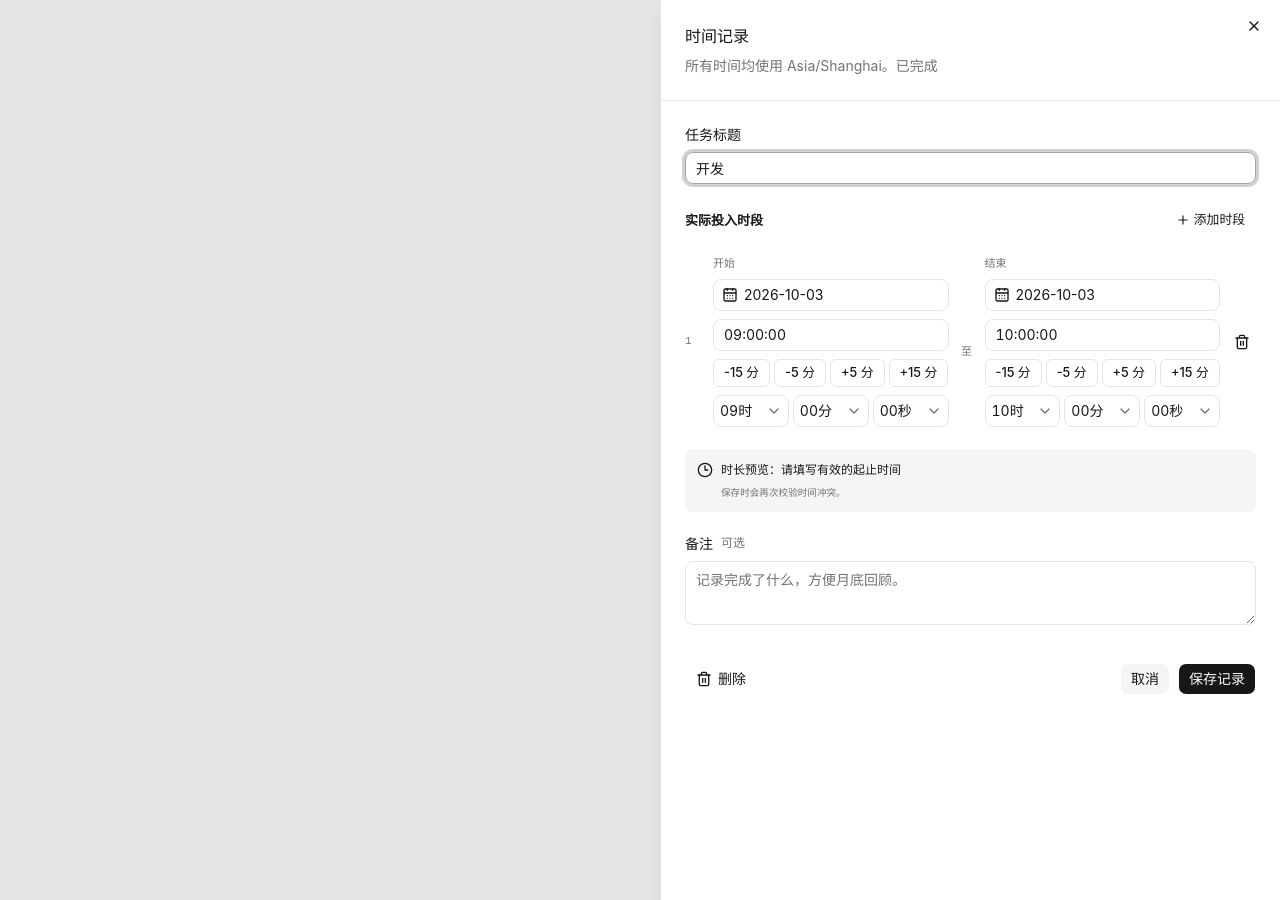
it: retains a failed save and prevents closing while a retry is pending
Replace the text in the field labelled "任务标题" with "重试草稿" at (970, 168), box [685, 152, 1256, 184]
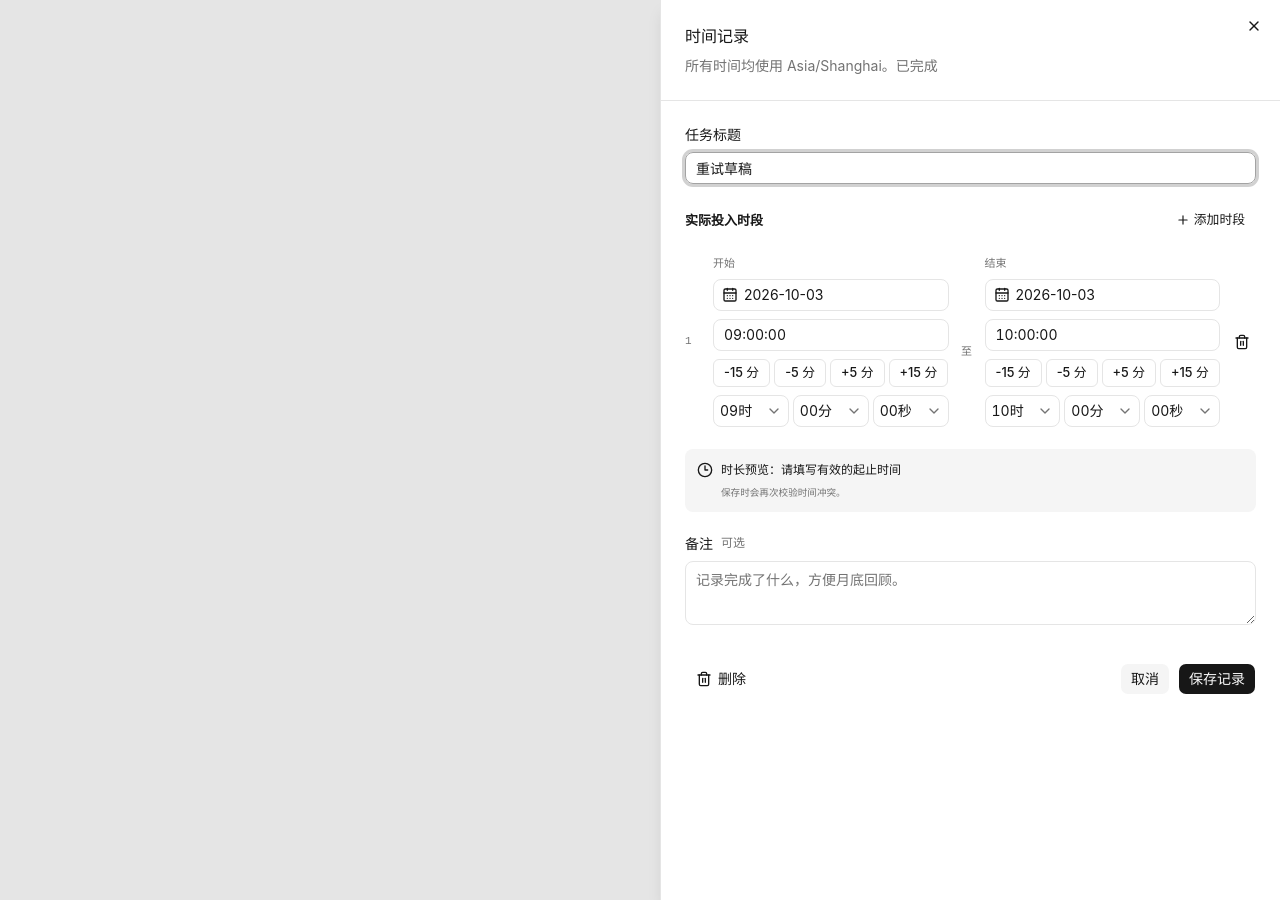
Click the button "保存记录".
click(1217, 679)  # box [1178, 663, 1256, 695]
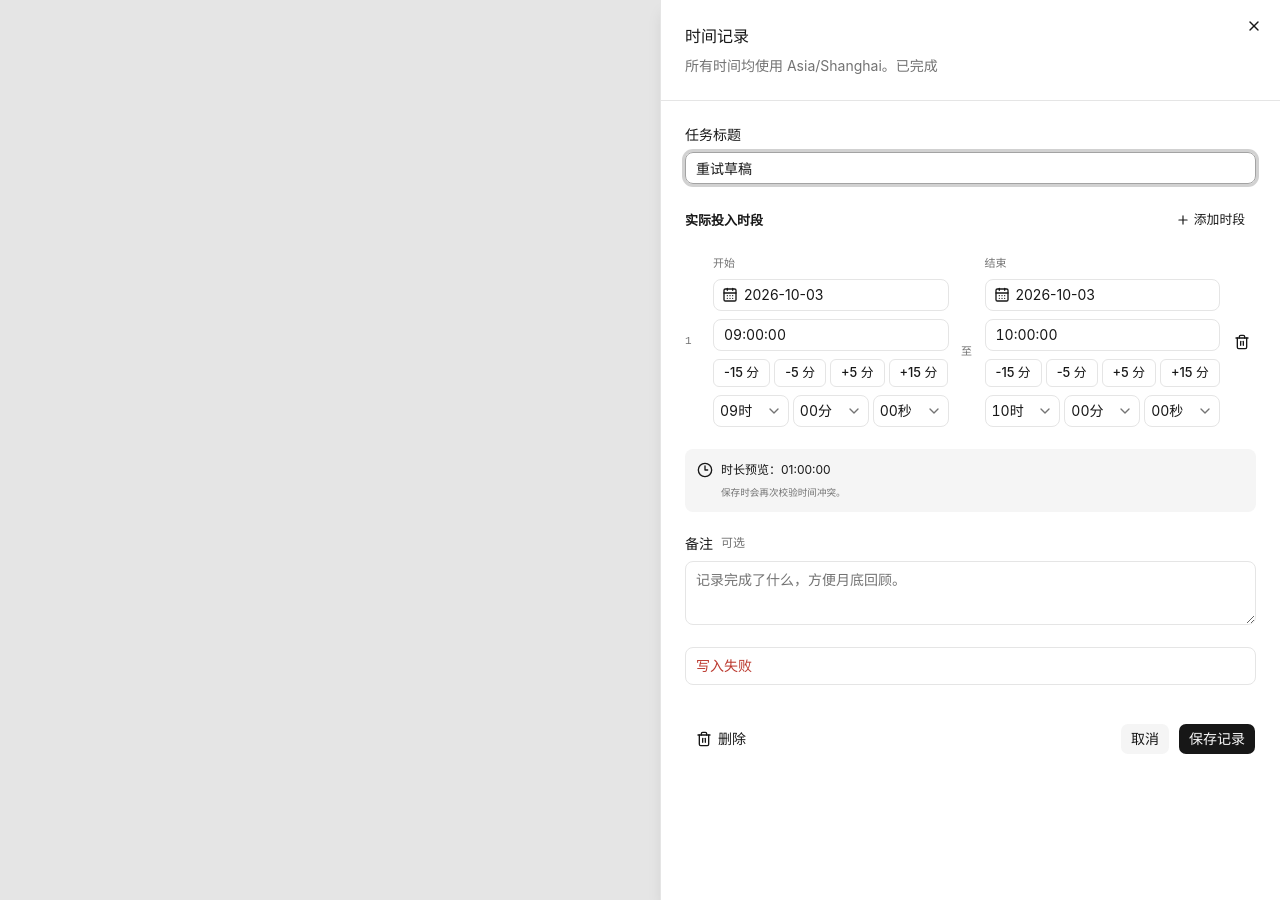
expect the text "写入失败" is shown: met, box [696, 657, 752, 674]
Click the button "保存记录".
click(1217, 739)  # box [1178, 723, 1256, 755]
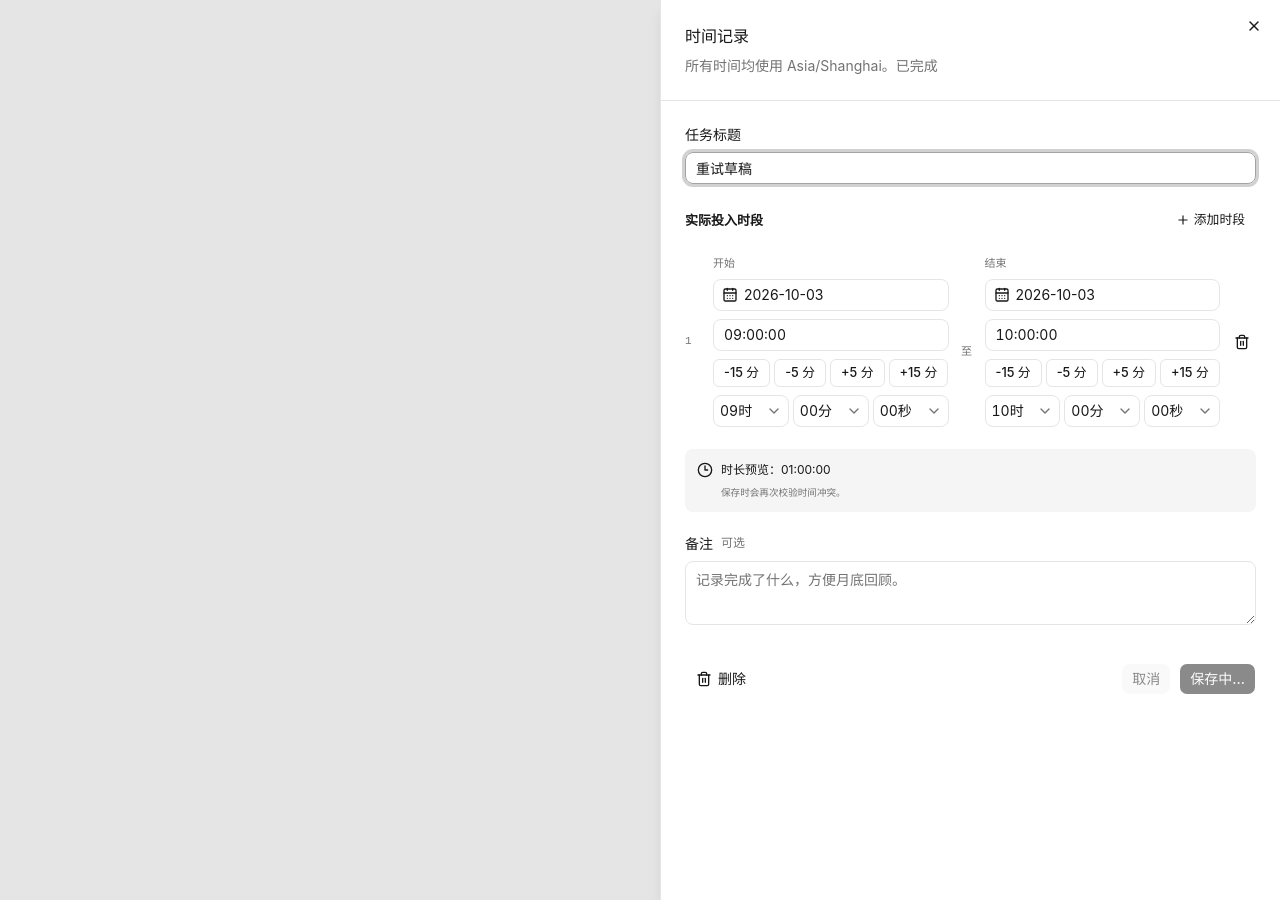
expect the button "保存中…" is shown: met, box [1179, 663, 1256, 695]
Click the button named "关闭".
click(1254, 26)  # box [1240, 12, 1268, 40]
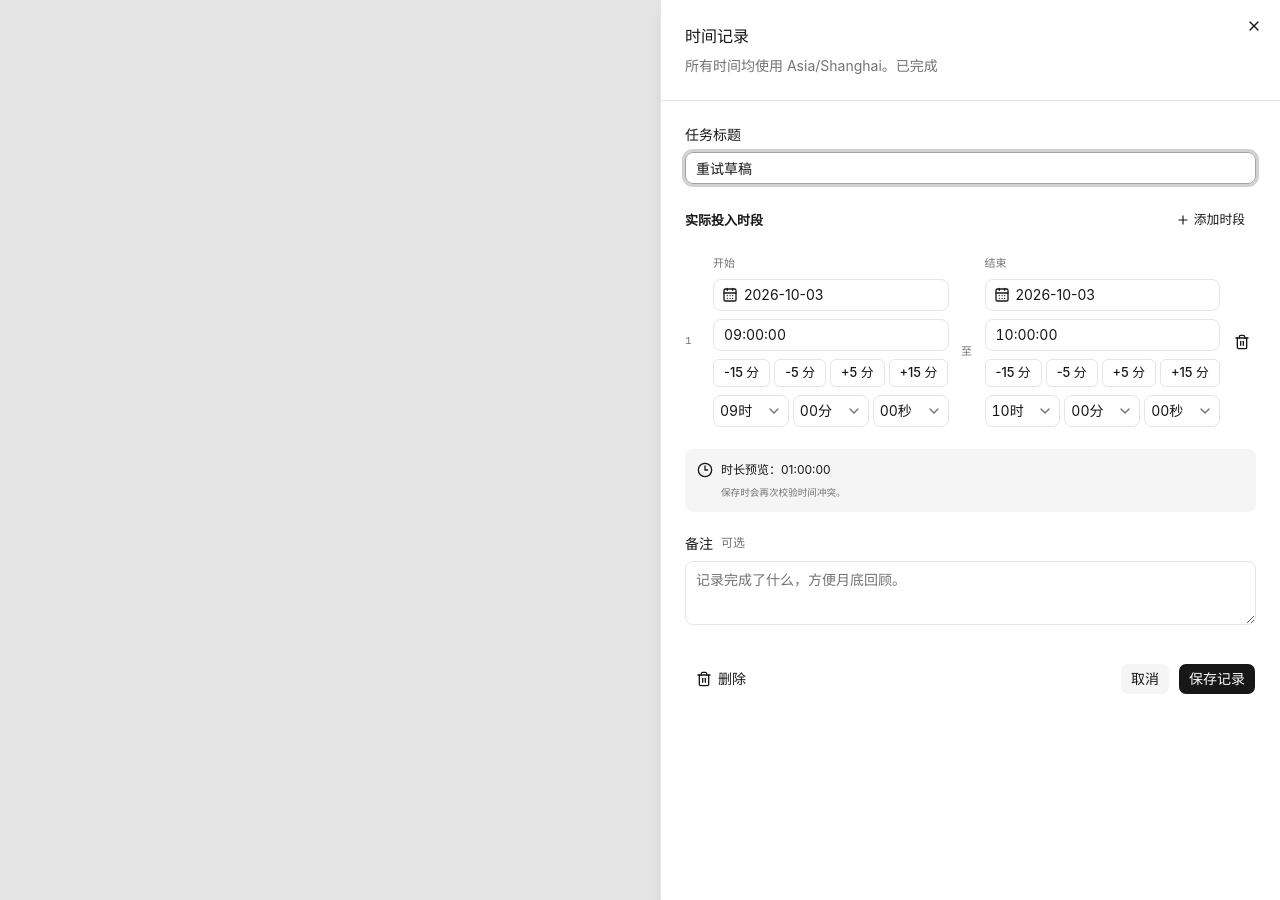
expect the button "保存记录" is shown: met, box [1178, 663, 1256, 695]
